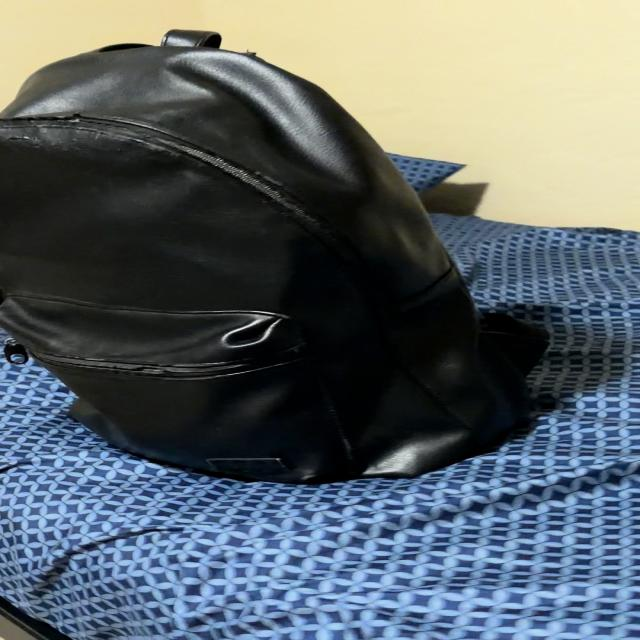backpack: (0, 31, 546, 482)
